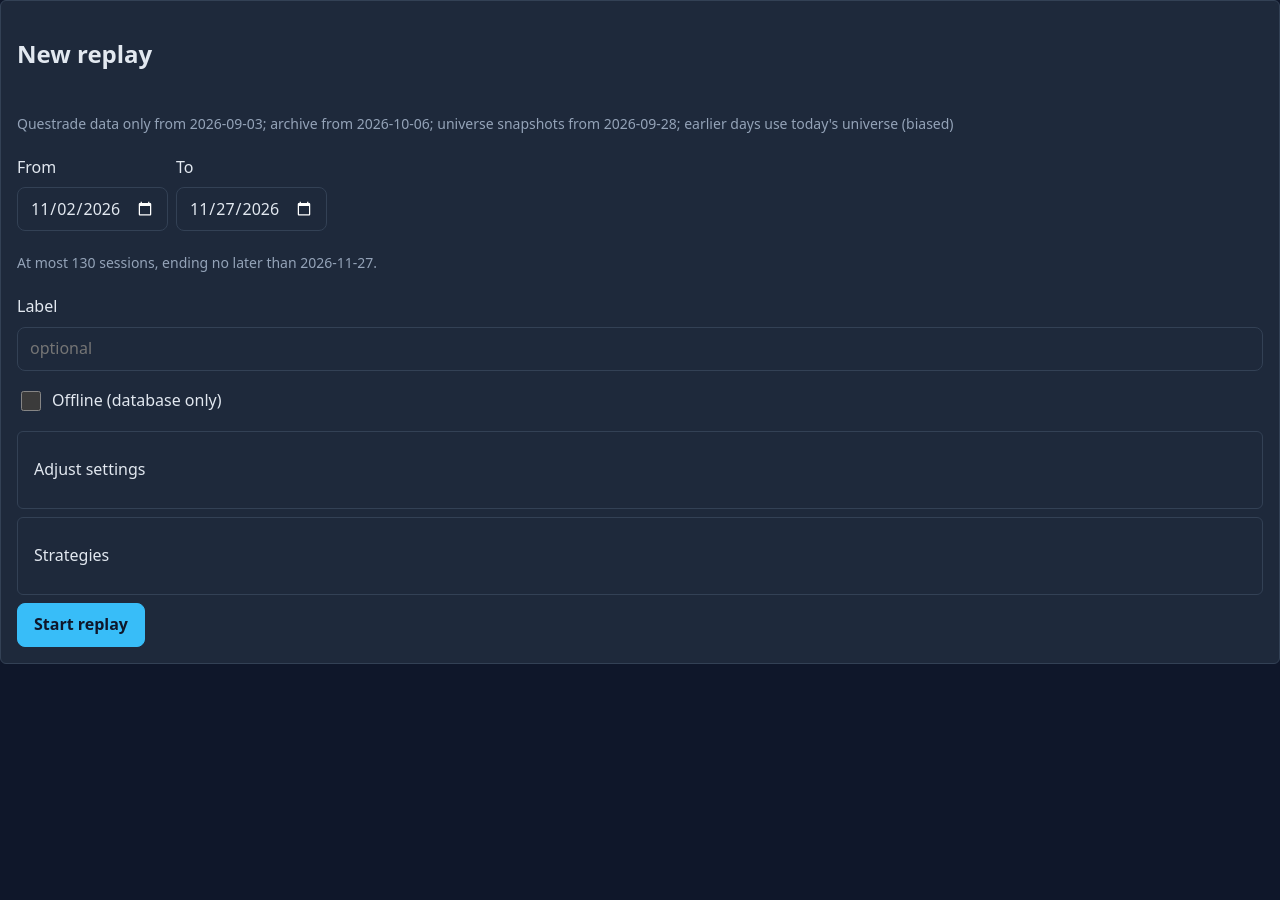
Scenario: server errors (acceptance test 4) › a 422 for overrides.risk_pct shows the message under that input, others under theirs
This screenshot has width=1280, height=900.
Step 1. Click the button "Start replay" → {"x": 81, "y": 625}, box left=17, top=603, right=145, bottom=647
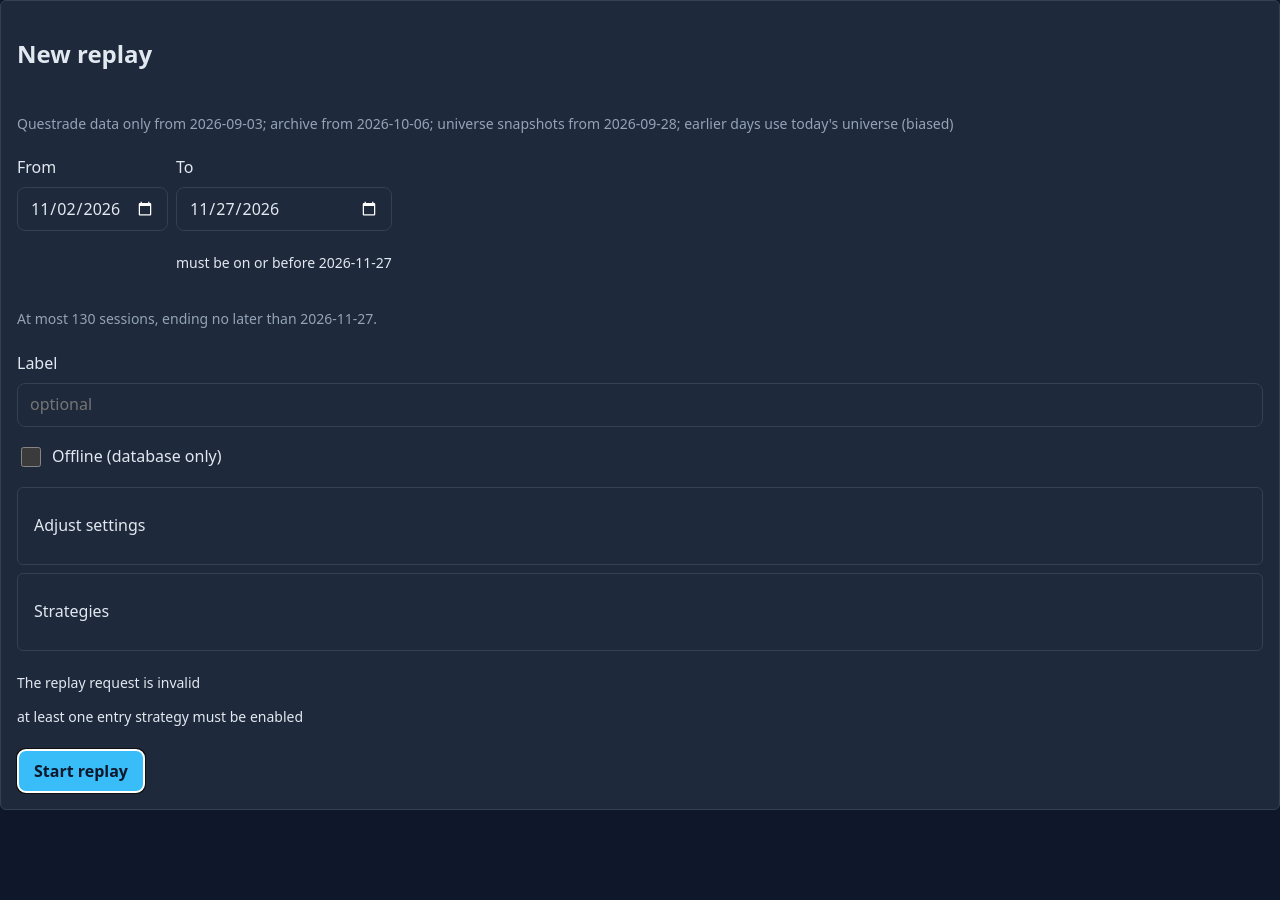
expect the text "at least one entry strategy must be enabled" is shown: met, box left=17, top=707, right=303, bottom=726
expect the text "The replay request is invalid" is shown: met, box left=17, top=673, right=200, bottom=692
